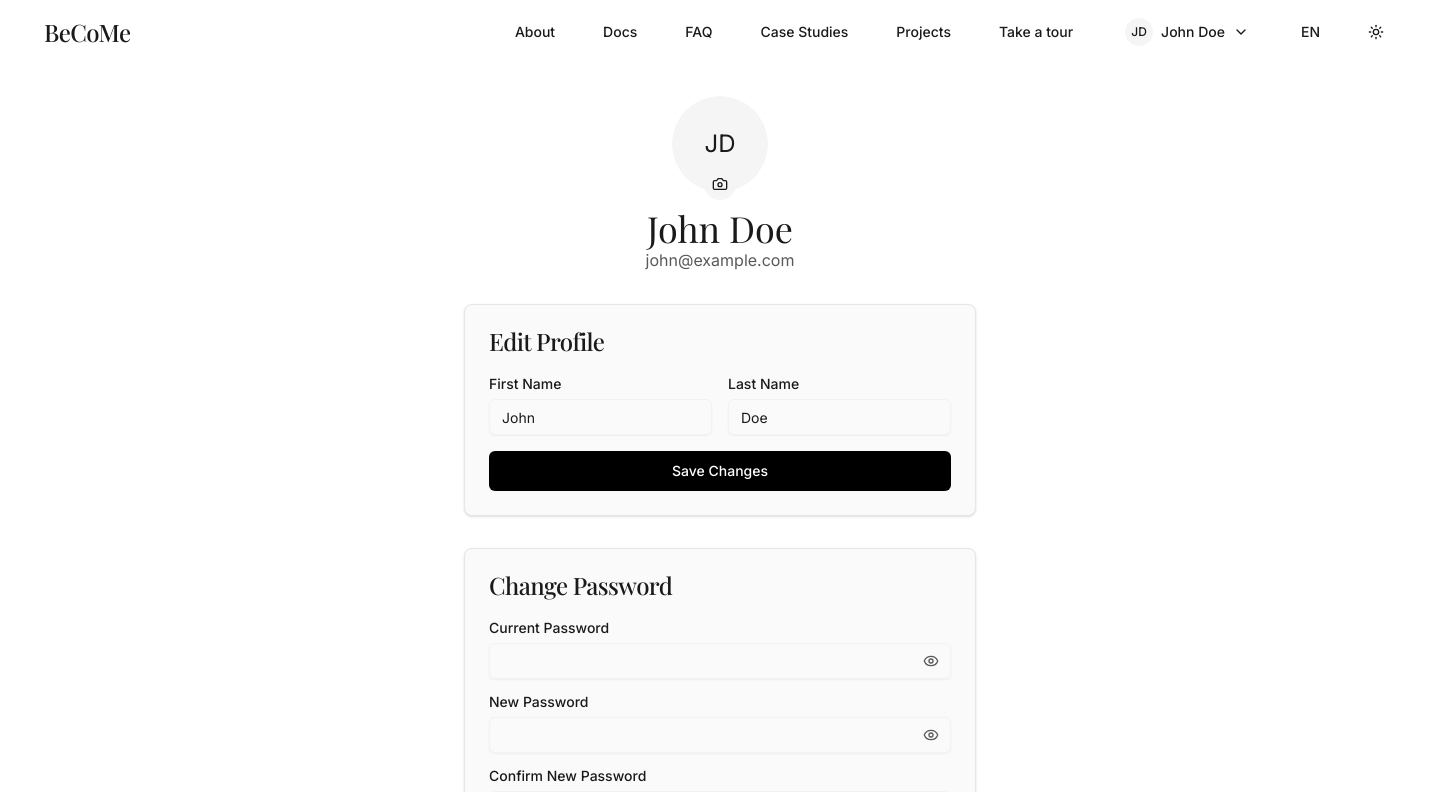
Profile - Edit Profile › disables save button when first name is empty
The image size is (1440, 792).
Clear the field labelled "First Name" at (600, 417), box [489,399,712,435]
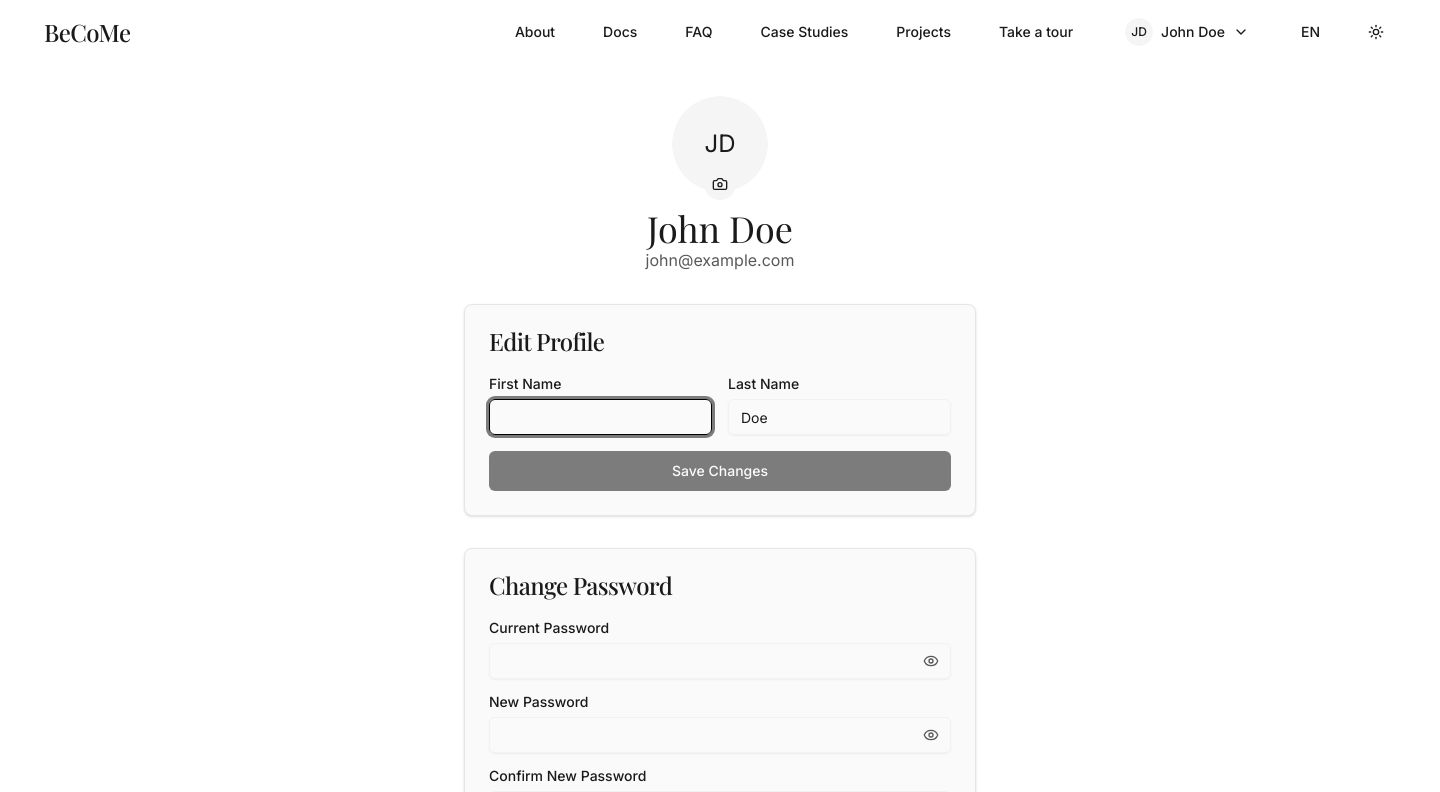
Check: the button "Save Changes" is disabled, box [489,451,951,491]
